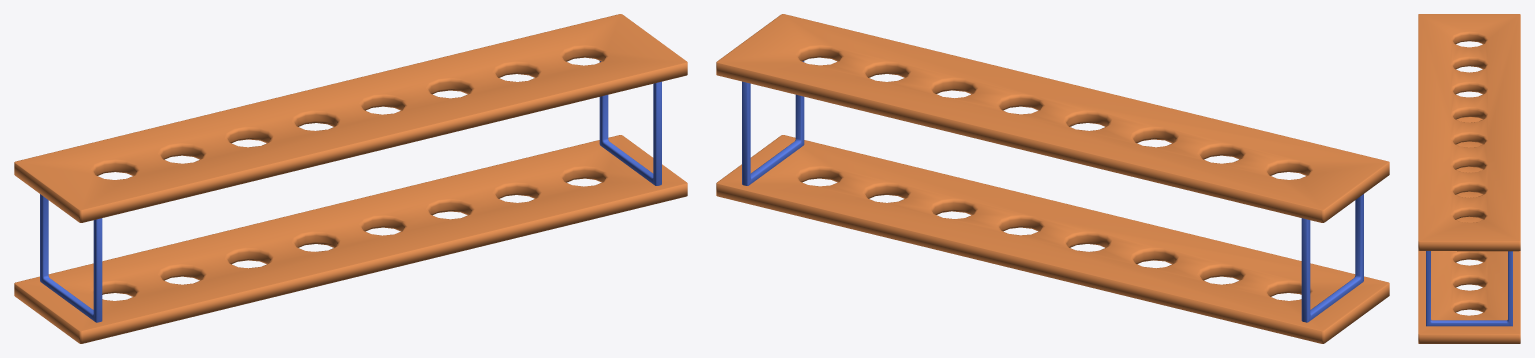
File: RatLadder.fbx
3 renders of one model, left to right at view 1: azimuth 30°, elevation 25°; view 2: azimuth 150°, elevation 25°; view 3: azimuth 270°, elevation 25°, orthographic. The views are drawn at different scales.
Parts seen in each view (by area): view 1: Cube.001; view 2: Cube.001; view 3: Cube.001.
Part boxes in pixels (bbox=[...]): Cube.001: bbox=[14, 14, 687, 343]; Cube.001: bbox=[716, 14, 1389, 343]; Cube.001: bbox=[1418, 14, 1520, 343].
Bounding box in the file's own units: 138 × 29.06 × 26.34.
